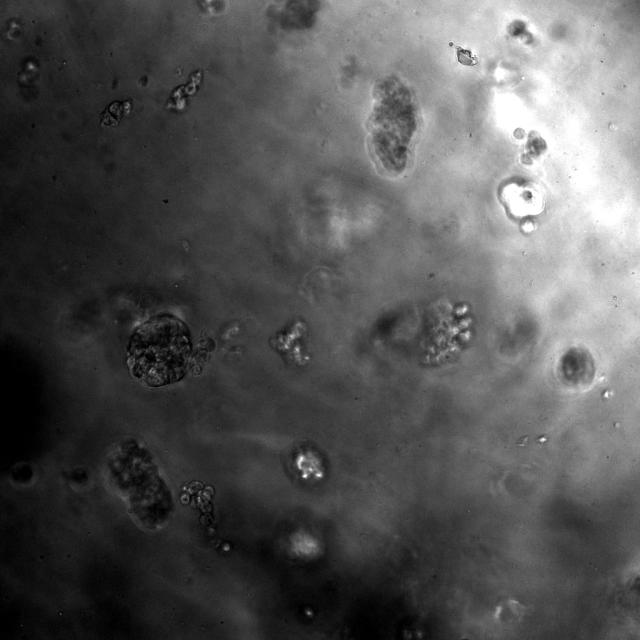organoid: (126, 312, 214, 388), (108, 439, 173, 530), (365, 75, 419, 178), (418, 299, 472, 365), (498, 176, 545, 233), (284, 442, 329, 487), (271, 319, 310, 366), (179, 480, 215, 527), (558, 346, 594, 386), (167, 70, 202, 110), (513, 127, 547, 164), (100, 99, 132, 126), (507, 19, 532, 44)
